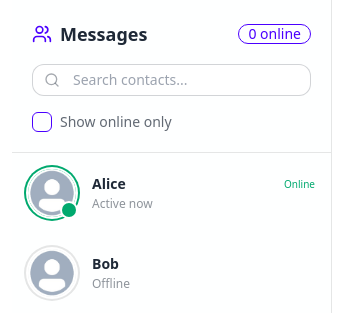
Test case: Sidebar UI › filters users by search query
Type "Alice" into the field with placeholder "Search contacts..." at (172, 80), box top-left (32, 64), bottom-right (311, 96)
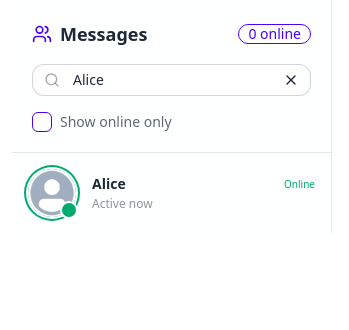
Check: the text "Alice" is shown, box top-left (92, 174), bottom-right (126, 194)
Check: the button "Bob" is gone
